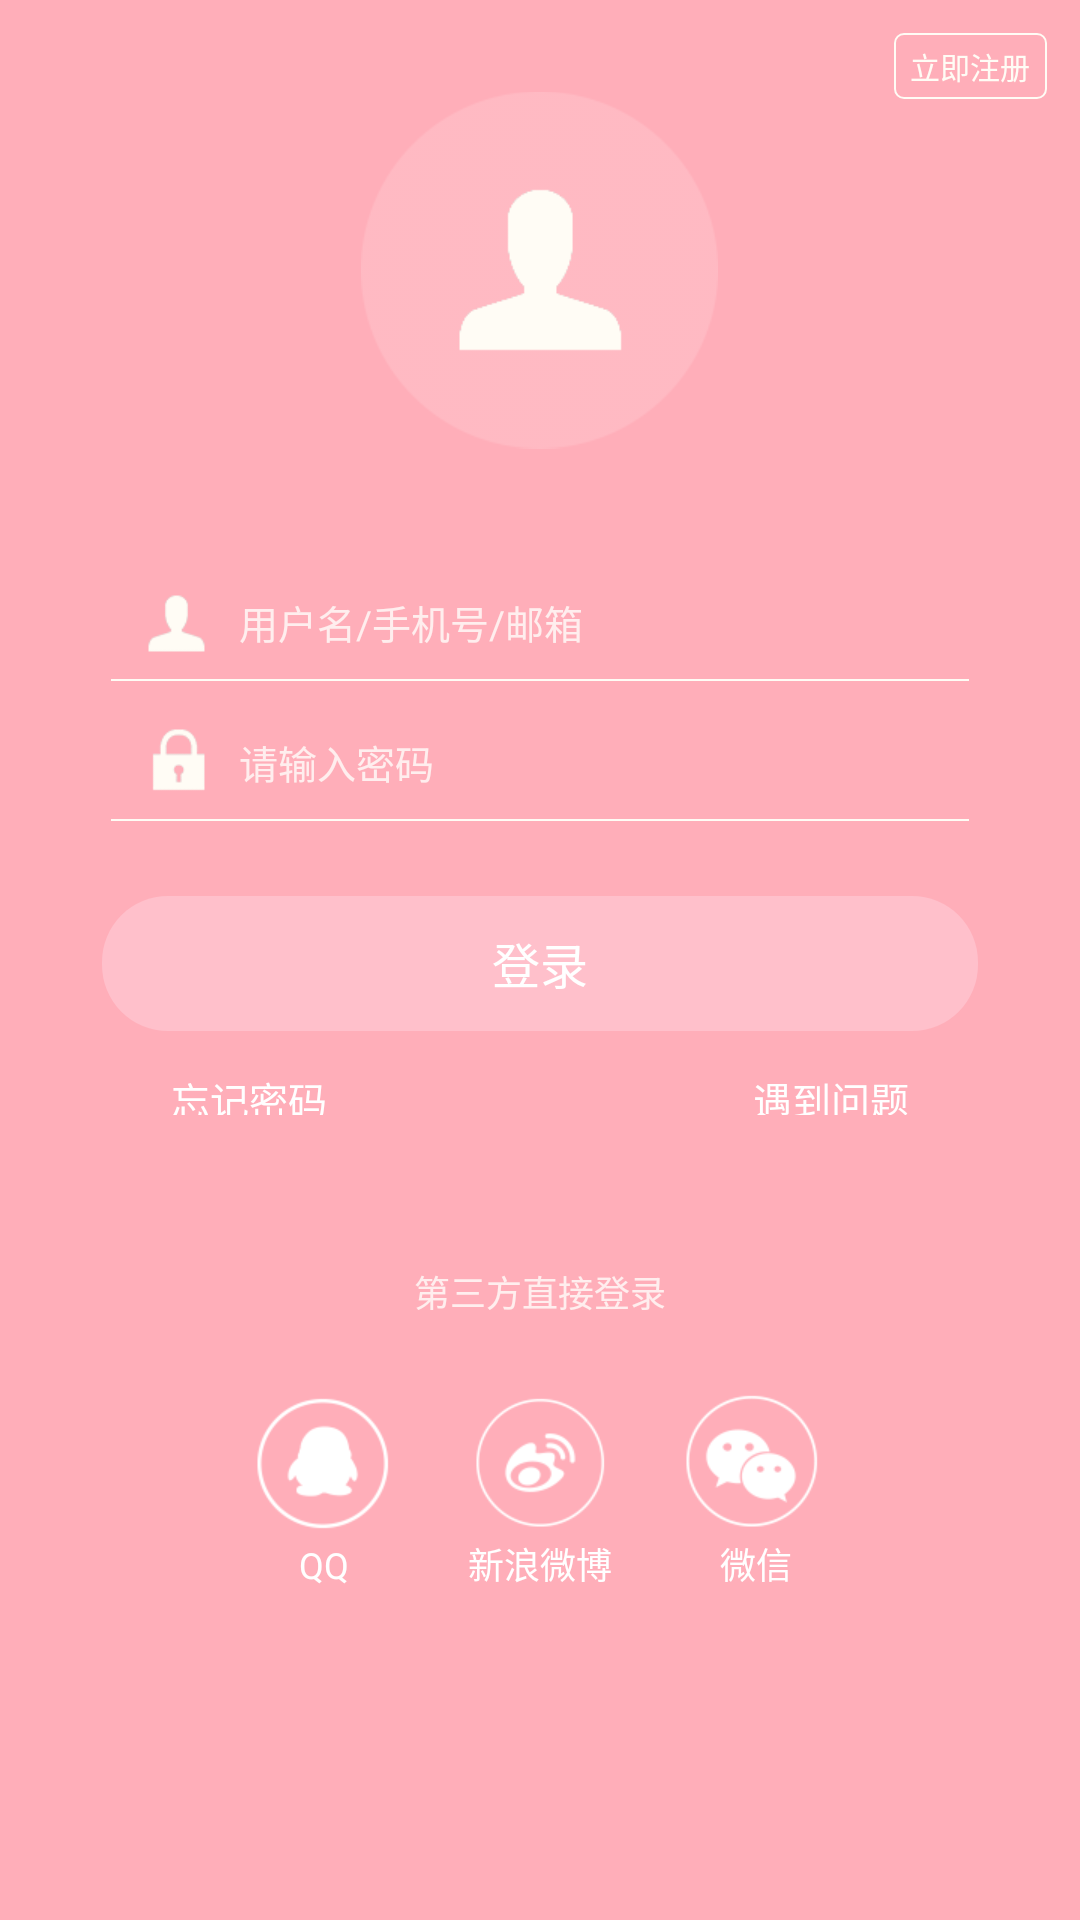

Named icons in this screenshot (1080w x 1920h) and their centers, point (x, y):
head portrait: point (540, 270)
